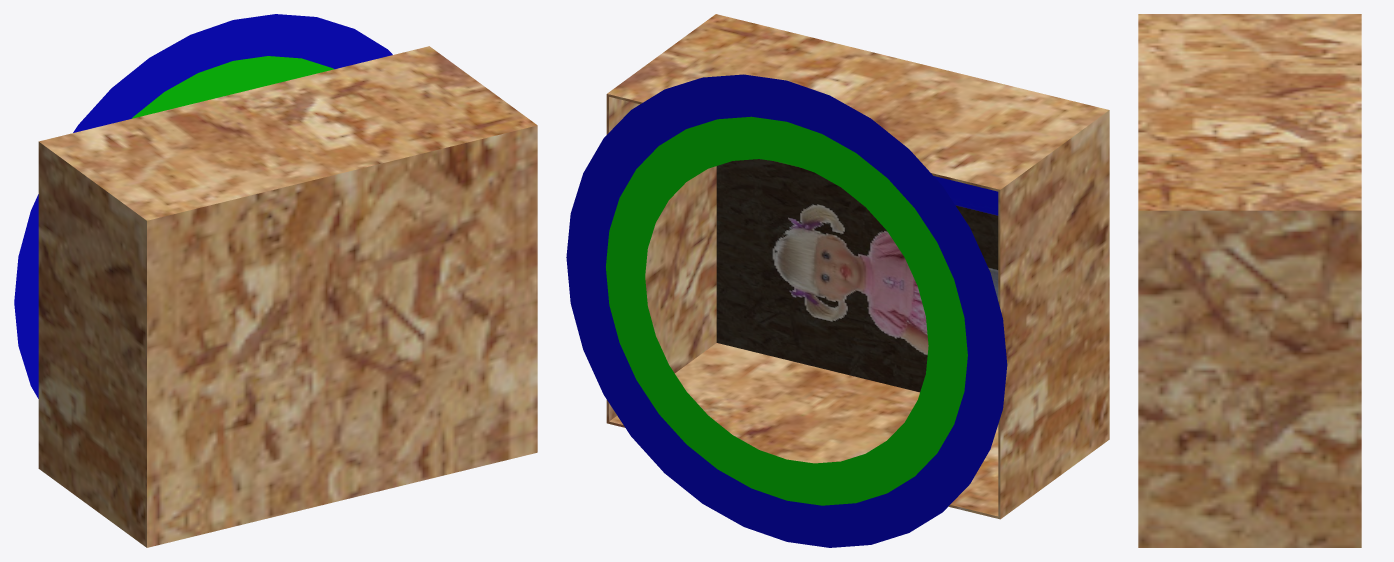
File: victim_with_box_sc.dae
3 views of the same model, side by side, from view 1: azimuth 30°, elevation 25°; view 2: azimuth 150°, elevation 25°; view 3: azimuth 270°, elevation 25° (orthographic). The views are drawn at different scales.
Parts seen in each view (by area): view 1: Untitled; view 2: Untitled; view 3: Untitled.
Boxes of the visible parts, x1,y1,x2,y2 form: Untitled: (14, 14, 537, 547); Untitled: (566, 14, 1109, 547); Untitled: (1138, 14, 1361, 547).
Bounding box in the file's own units: 0.56 × 0.2596 × 0.56.
4 materials, 2 textured.
